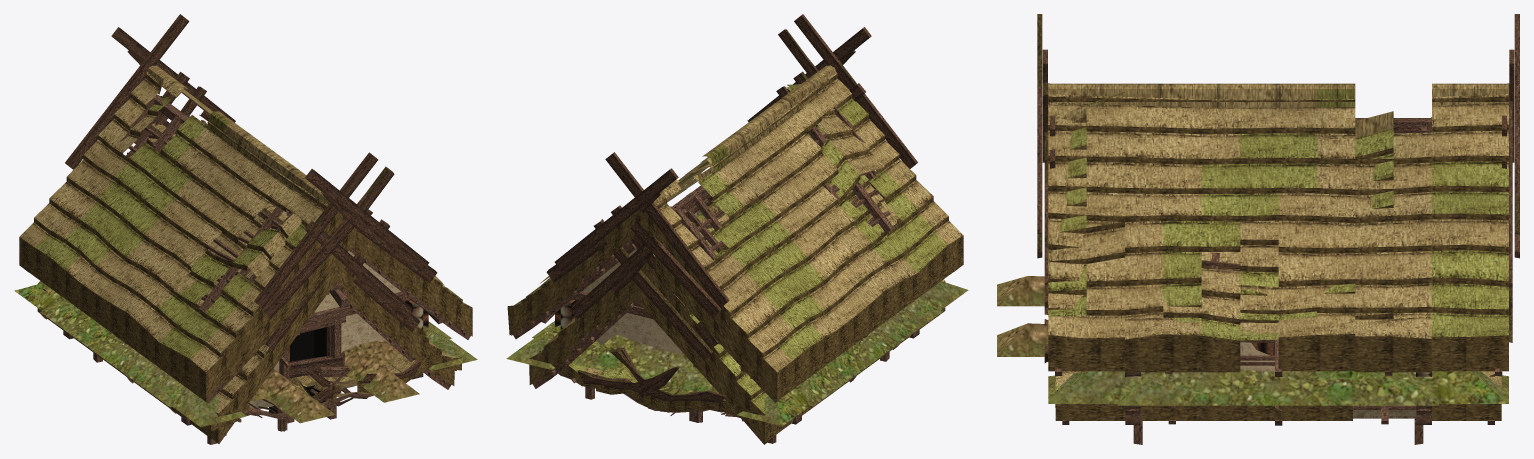
Rendered from decay.glb.
3 renders of one model, left to right at view 1: azimuth 30°, elevation 25°; view 2: azimuth 150°, elevation 25°; view 3: azimuth 270°, elevation 25°, orthographic. The views are drawn at different scales.
Parts seen in each view (by area): view 1: polozemnice-1-thatch, polozemnice-1-moss, polozemnice-2-thatch, polozemnice-1, zemnice-1, zemnice-1-thatch, zemnice-2-thatch, polozemnice-3-thatch, polozemnice-2-moss, polozemnice-2, polozemnice-3, zemnice-2 (+1 smaller); view 2: polozemnice-1-thatch, polozemnice-1-moss, polozemnice-1, polozemnice-2-thatch, zemnice-1-thatch, zemnice-1, zemnice-2-thatch, polozemnice-3-thatch, polozemnice-2-moss, polozemnice-2, zemnice-1-moss, zemnice-2 (+3 smaller); view 3: polozemnice-1-thatch, polozemnice-1-moss, polozemnice-2-thatch, zemnice-1, polozemnice-1, polozemnice-2-moss, zemnice-1-thatch, zemnice-2-thatch, polozemnice-3, polozemnice-2, polozemnice-3-thatch.
Part boxes in pixels (x1,y1,x2,y2): polozemnice-1-thatch: (19, 14, 472, 401); polozemnice-1-moss: (35, 103, 331, 358); polozemnice-2-thatch: (114, 44, 462, 386); polozemnice-1: (22, 94, 469, 409); zemnice-1: (14, 282, 477, 444); zemnice-1-thatch: (37, 72, 425, 443); zemnice-2-thatch: (113, 86, 454, 392); polozemnice-3-thatch: (30, 284, 461, 431); polozemnice-2-moss: (148, 96, 462, 305); polozemnice-2: (28, 114, 470, 403); polozemnice-3: (63, 329, 456, 428); zemnice-2: (41, 289, 450, 444); polozemnice-1-thatch: (511, 14, 963, 400); polozemnice-1-moss: (514, 63, 947, 359); polozemnice-1: (514, 105, 960, 406); polozemnice-2-thatch: (507, 29, 902, 400); zemnice-1-thatch: (529, 73, 945, 442); zemnice-1: (506, 281, 968, 443); zemnice-2-thatch: (529, 86, 885, 442); polozemnice-3-thatch: (596, 351, 789, 429); polozemnice-2-moss: (713, 29, 896, 260); polozemnice-2: (513, 137, 954, 402); zemnice-1-moss: (689, 71, 884, 414); zemnice-2: (532, 300, 899, 444); polozemnice-1-thatch: (1037, 14, 1519, 371); polozemnice-1-moss: (1037, 14, 1519, 336); polozemnice-2-thatch: (1037, 94, 1519, 372); zemnice-1: (997, 276, 1508, 443); polozemnice-1: (1117, 117, 1439, 418); polozemnice-2-moss: (1037, 82, 1393, 340); zemnice-1-thatch: (1044, 83, 1512, 420); zemnice-2-thatch: (1044, 149, 1512, 420); polozemnice-3: (1062, 252, 1431, 424); polozemnice-2: (1055, 132, 1502, 376); polozemnice-3-thatch: (1044, 307, 1318, 409).
Size of the model in its own units: 5.5 by 5.63 by 7.15.
Materials: 4 (4 with a texture image).
